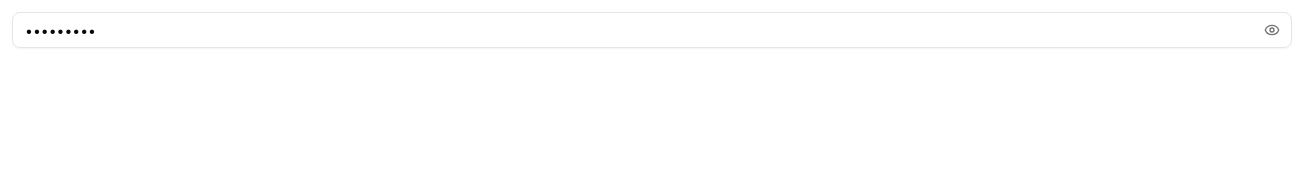
it: PasswordInput › toggles password visibility without changing its value
Click the button named "Show password" at (1272, 30), box [1256,14,1288,46]
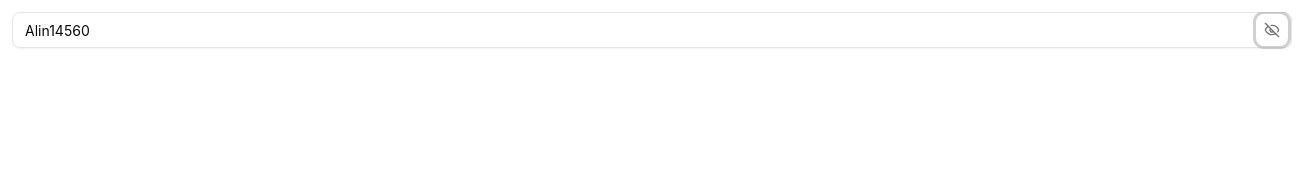
Expected: the field named "Password" holds "Alin14560", [12,12,1292,48]
Expected: the field named "Password" shows its text, [12,12,1292,48]
Click the button named "Hide password" at (1272, 30), box [1256,14,1288,46]
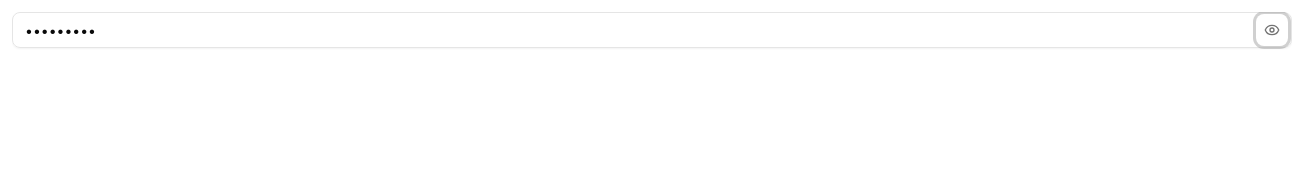
Expected: the password field named "Password" hides its text, [12,12,1292,48]
